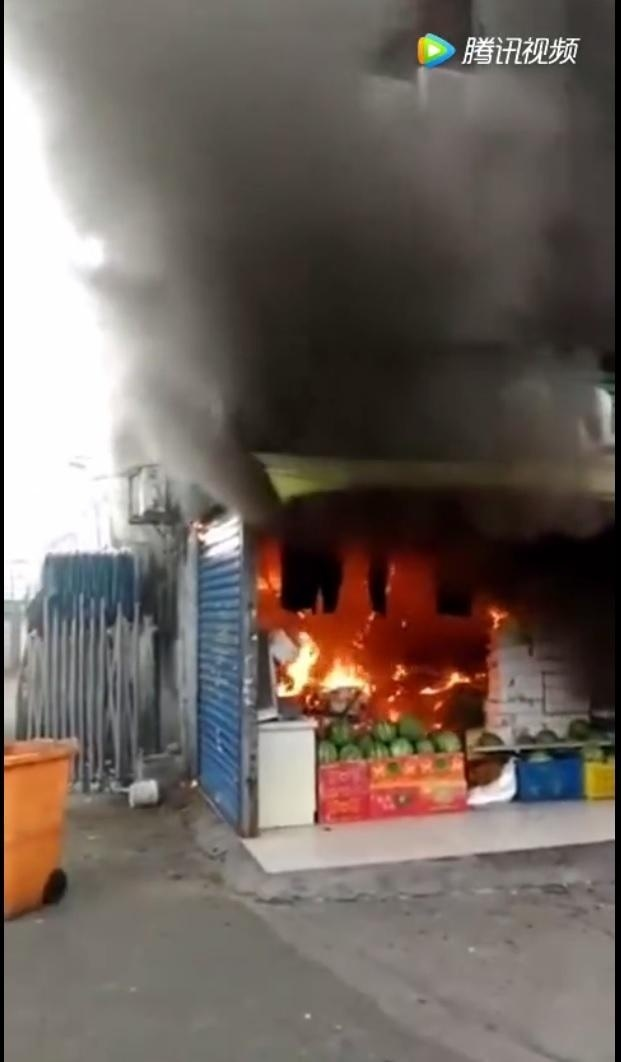fire: (254, 550, 503, 723)
